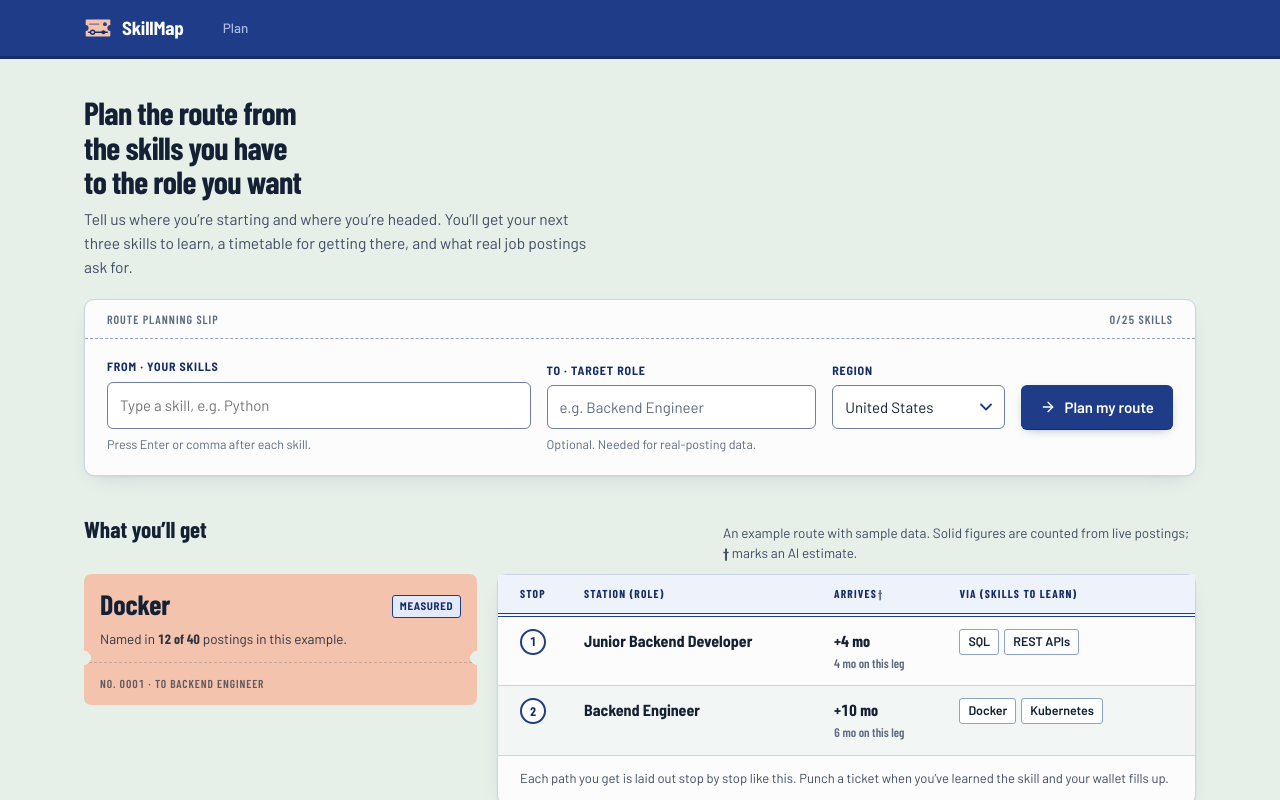
App: slip → tickets → timetable › punching a ticket marks it learned, raises readiness and persists
The width and height of the screenshot is (1280, 800).
In the dropdown labelled "From · your skills": point(319, 406) [116,389,522,422], type "React"
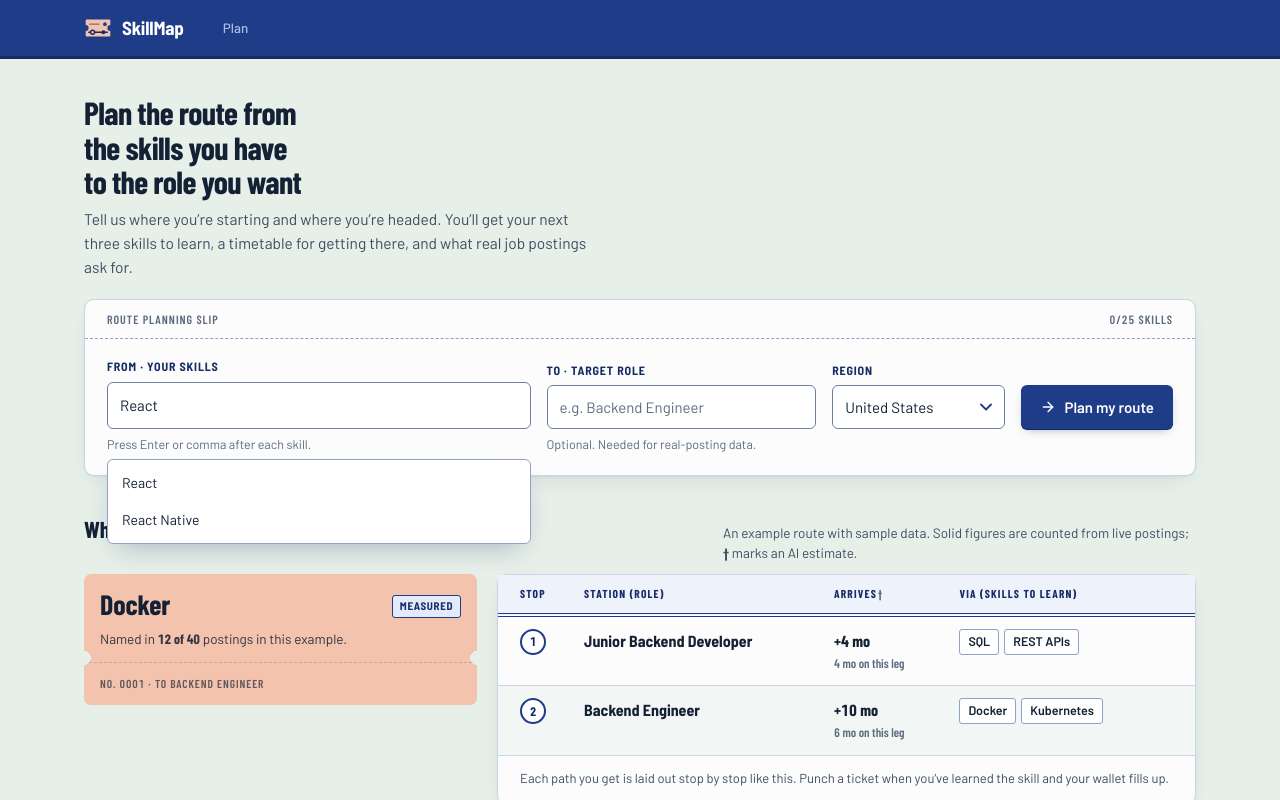
Press Enter in the dropdown labelled "From · your skills", box [116,389,522,422]
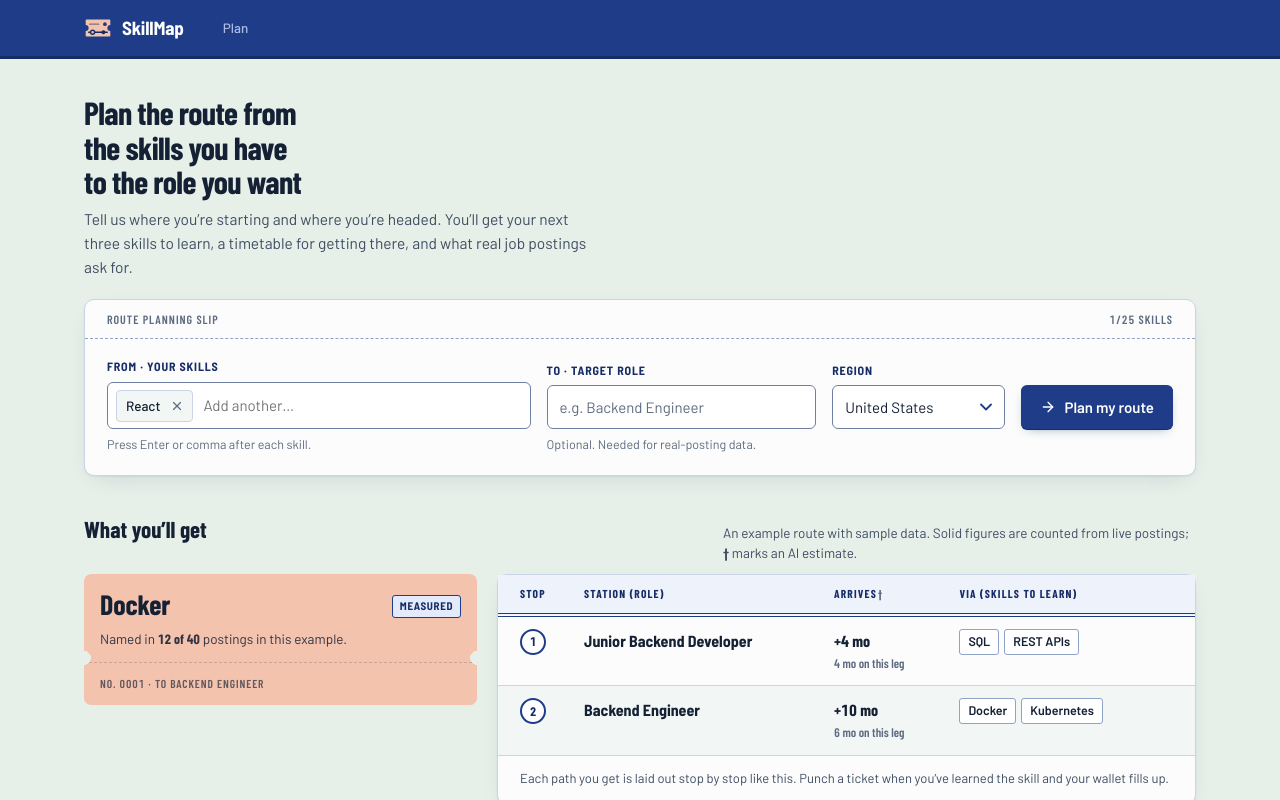
In the dropdown labelled "To · target role": point(681, 407) [547,385,816,429], type "Full Stack Developer"
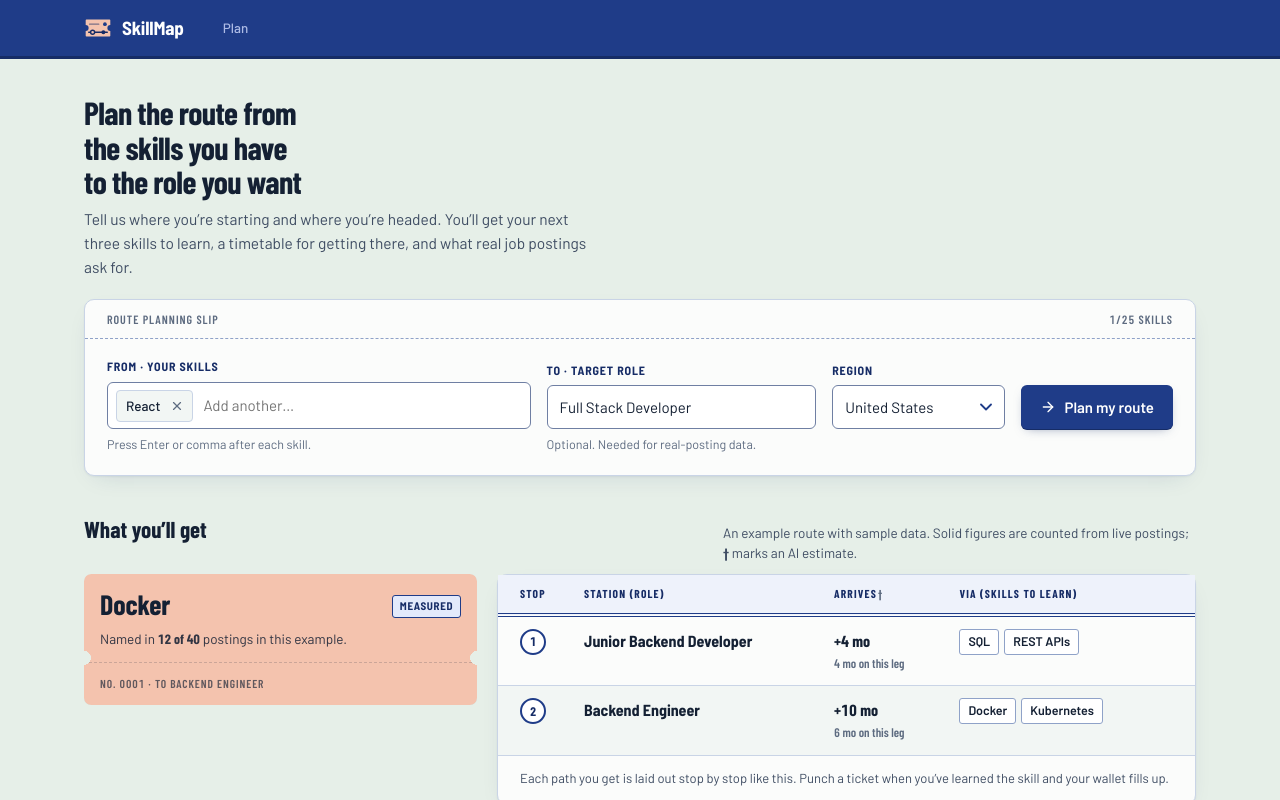
Click the button "Plan my route": point(1097, 407) [1022,385,1173,429]
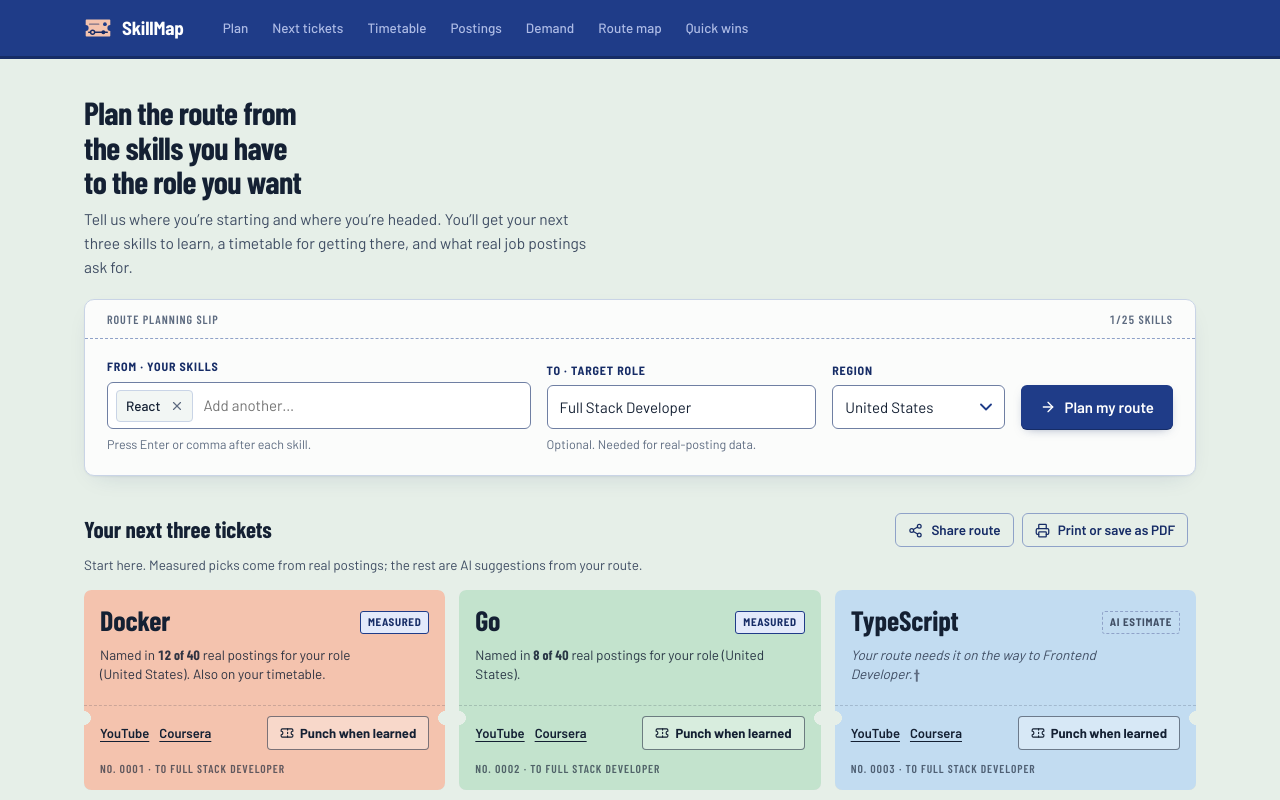
Result: the number of buttons "Punch when learned" is 3
Click the button "Punch when learned" below "Also on your timetable.": point(348, 733) [267,716,429,750]
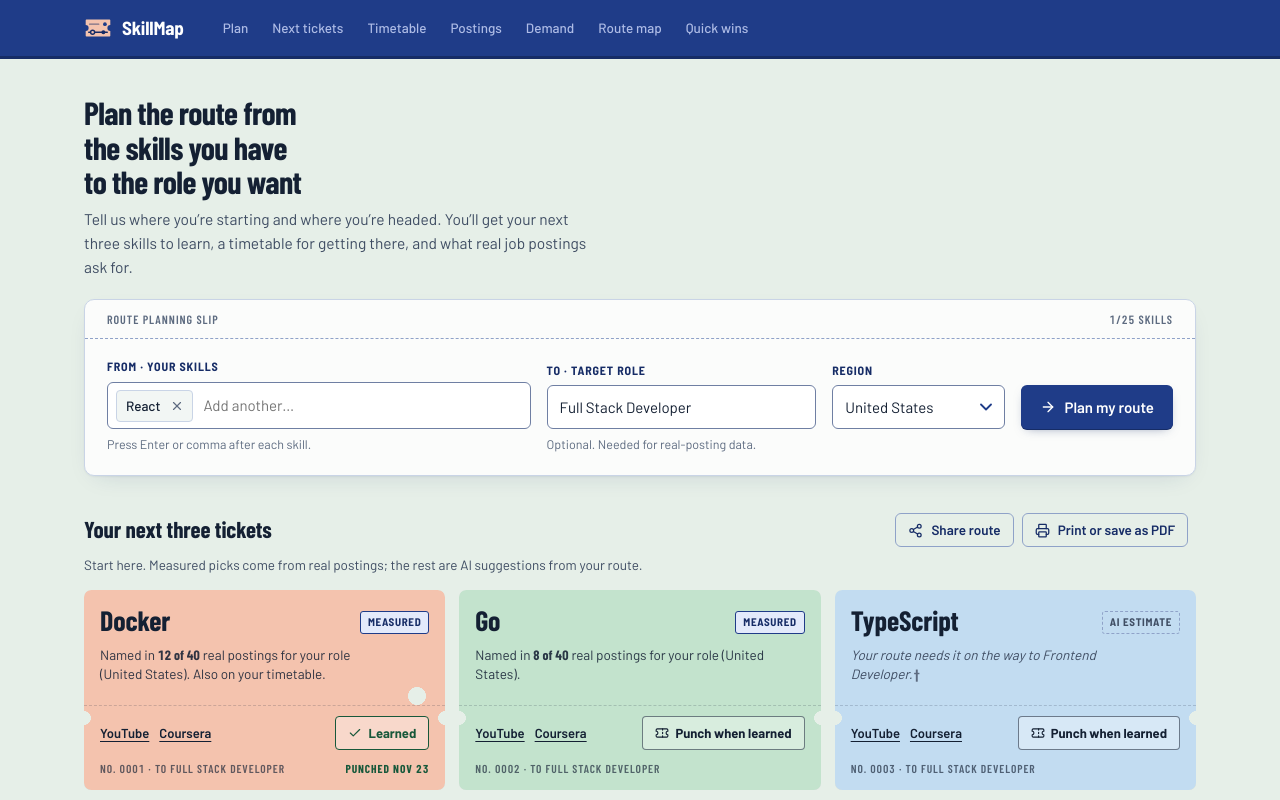
Result: the button "Learned" is shown at [336,716,429,750]
Result: the text "Punched Nov 23" is shown at [345,760,429,778]
